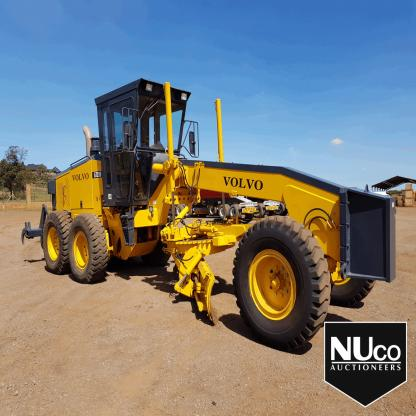bull_dozer/loader/grader: (18, 74, 393, 353)
